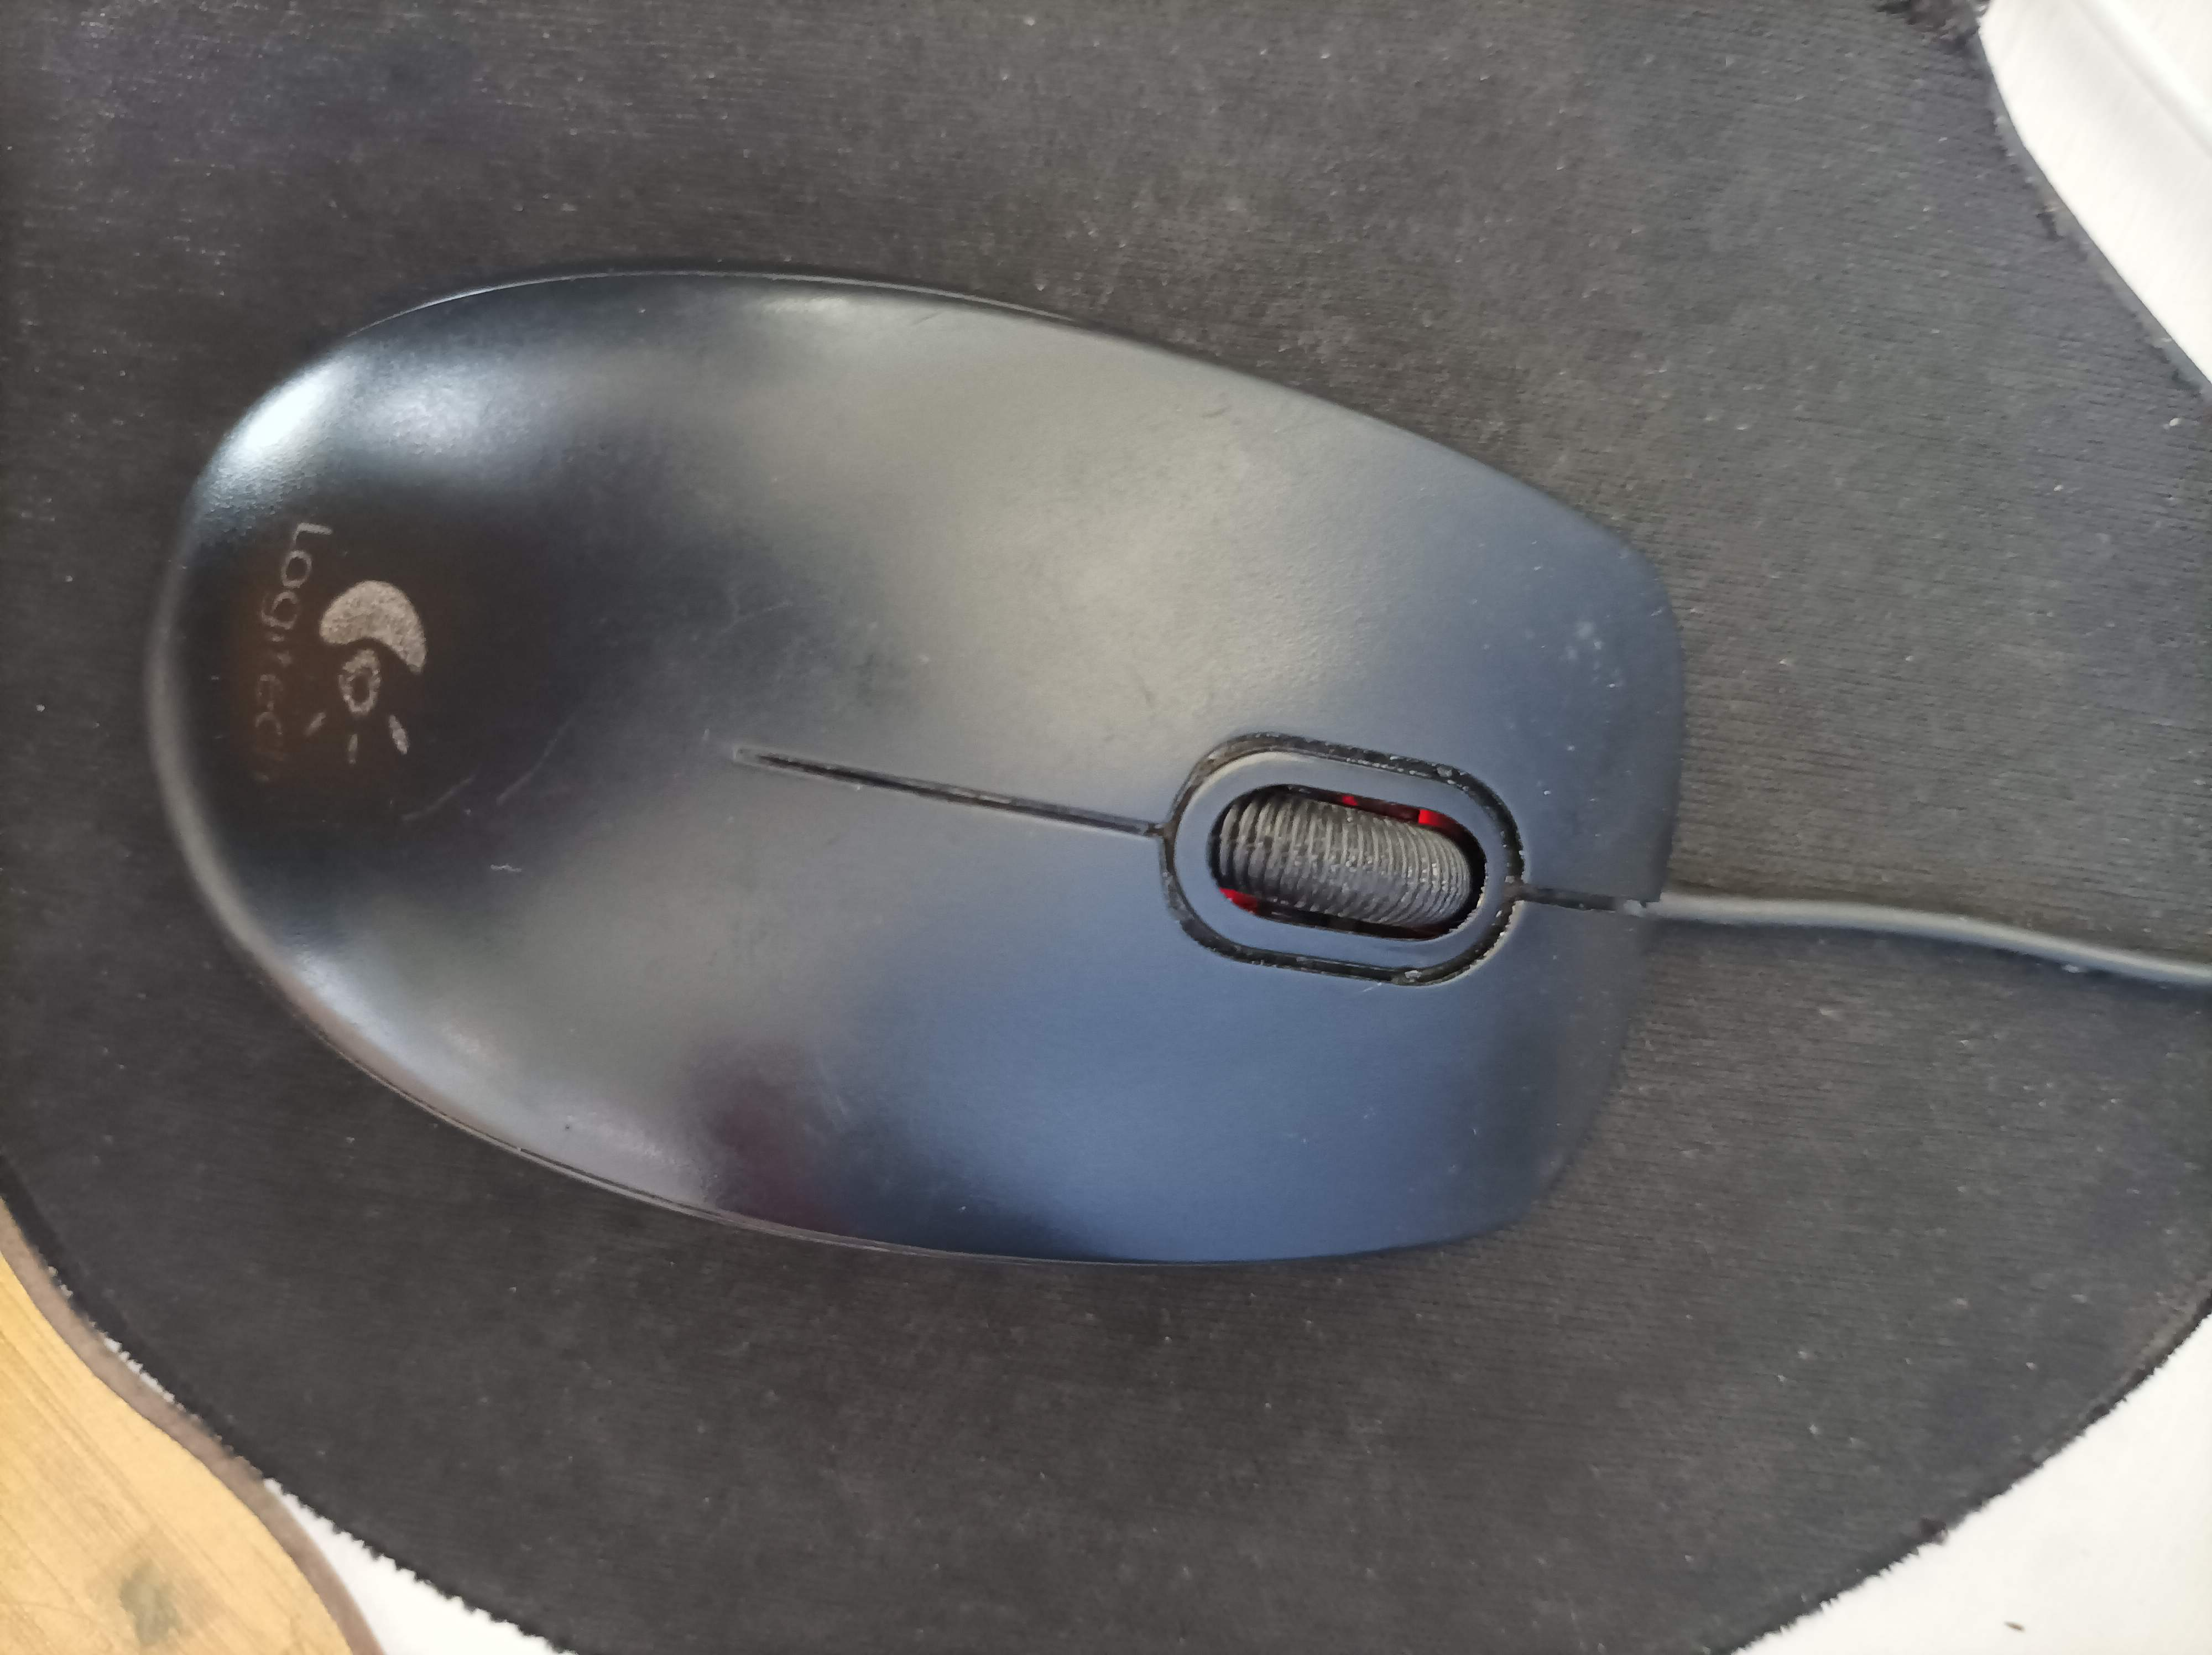mouse: (134, 242, 1696, 1285)
